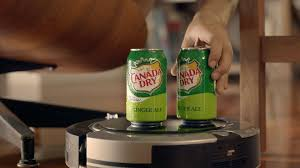Lata: (124, 45, 170, 128)
